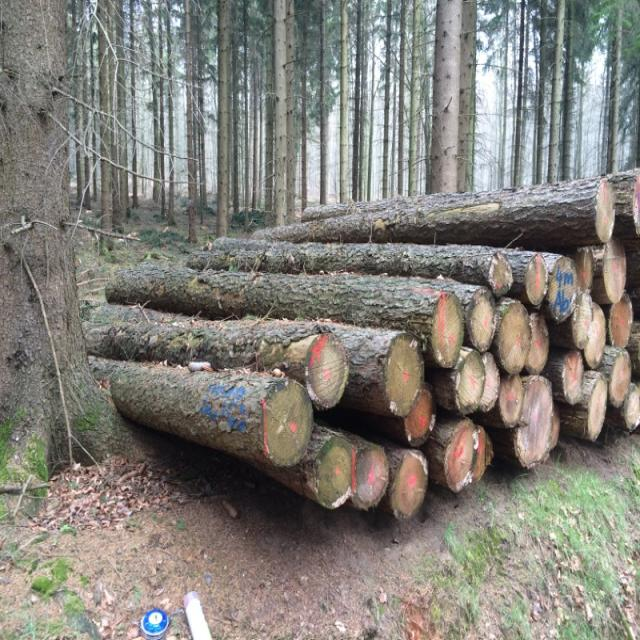wood-log: (263, 378, 312, 467), (512, 375, 554, 468), (305, 333, 349, 410), (384, 333, 424, 417), (315, 437, 355, 508), (389, 450, 428, 520), (351, 443, 389, 510), (444, 420, 479, 492), (431, 292, 464, 368), (498, 300, 531, 375), (546, 257, 578, 323), (404, 382, 436, 447), (456, 350, 486, 415), (466, 288, 495, 352), (585, 374, 608, 442), (582, 303, 606, 368), (604, 238, 627, 303), (525, 313, 549, 375), (608, 293, 634, 348), (608, 348, 631, 408), (498, 375, 524, 428), (471, 425, 494, 483), (595, 178, 615, 243), (570, 292, 592, 350), (526, 254, 550, 307), (479, 352, 500, 412), (562, 350, 584, 405), (489, 250, 514, 297), (569, 247, 594, 290), (622, 383, 640, 432), (632, 172, 640, 237), (551, 403, 560, 452)
